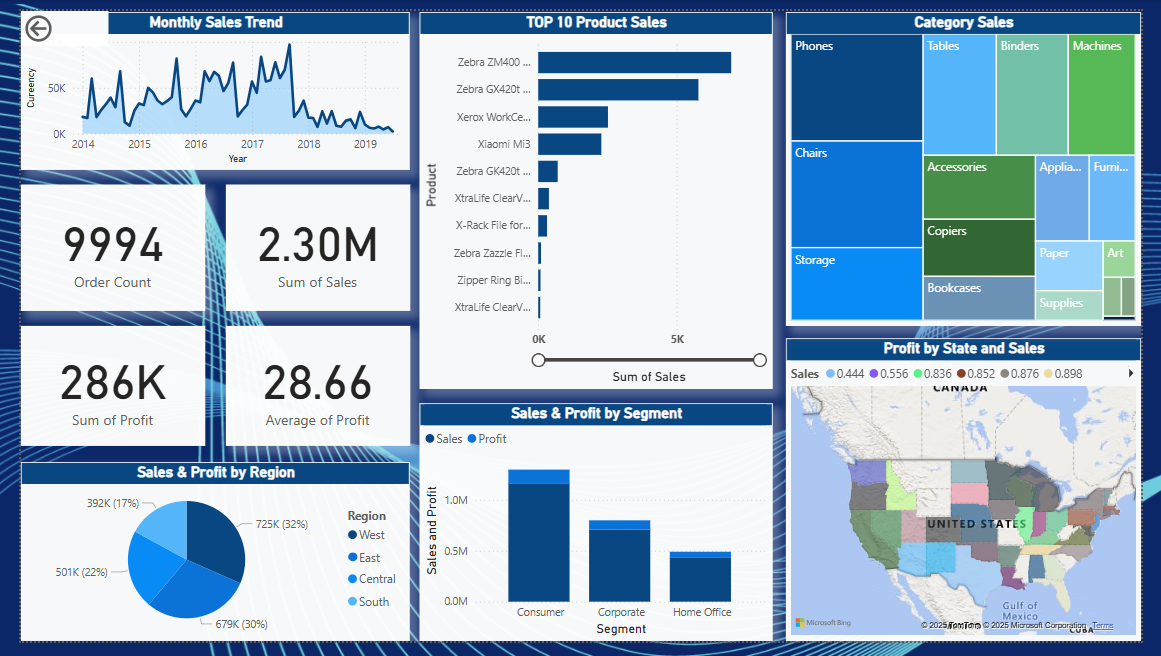

The dashboard page shown, as its layout file describes it:
{"tool":"powerbi","page":{"name":"Page 1","canvas":[1280,720],"ordinal":0},"visuals":[{"type":"lineChart","title":"Monthly Sales Trend","fields":{"Y":["Sum(Superstore.Sales)"],"Category":["Superstore.Order Month.Variation.Date Hierarchy.Year","Superstore.Order Month.Variation.Date Hierarchy.Quarter","Superstore.Order Month.Variation.Date Hierarchy.Month","Superstore.Order Month.Variation.Date Hierarchy.Day"]},"box":[0,1.4,444.3,180],"z":0},{"type":"card","fields":{"Values":["Sum(Superstore.Sales)"]},"box":[234.3,198.6,210,144.3],"z":1000},{"type":"actionButton","box":[0,0,100,40],"z":2000},{"type":"card","fields":{"Values":["Sum(Superstore.Profit)"]},"box":[0,360,210,137.1],"z":3000},{"type":"card","fields":{"Values":["Superstore.Order Count"]},"box":[0,198.6,210,144.3],"z":4000},{"type":"card","fields":{"Values":["Avg(Superstore.Profit)"]},"box":[234.3,360,210,137.1],"z":5000},{"type":"columnChart","title":"Sales & Profit by Segment","fields":{"Y":["Sum(Superstore.Sales)","Sum(Superstore.Profit)"],"Category":["Superstore.Segment"]},"box":[455.7,448.6,402.9,271.4],"z":6000},{"type":"filledMap","title":"Profit by State and Sales","fields":{"Category":["Superstore.State"],"Series":["Superstore.Sales"]},"box":[874.3,374.3,405.7,345.7],"z":7000},{"type":"pieChart","title":"Sales & Profit by Region","fields":{"Category":["Superstore.Region"],"Y":["Sum(Superstore.Sales)"]},"box":[0,516,444.5,203.3],"z":8000},{"type":"barChart","title":"TOP 10 Product Sales","fields":{"Category":["Superstore.Product Name"],"Y":["Sum(Superstore.Sales)"]},"box":[455.7,1.4,402.9,430],"z":9000},{"type":"treemap","title":"Category Sales","fields":{"Group":["Superstore.Sub-Category"],"Values":["Sum(Superstore.Sales)"]},"box":[874.3,1.4,405.7,358.6],"z":10000}]}

Visuals, with their boxes in screenshot pixels (x1, y1, x2, y2), scaled from the page's 1280x720 canvas onto the 1161x656 screenshot:
"Monthly Sales Trend" lineChart: l=0, t=1, r=403, b=165
card - Sum(Superstore.Sales): l=213, t=181, r=403, b=312
actionButton: l=0, t=0, r=91, b=36
card - Sum(Superstore.Profit): l=0, t=328, r=190, b=453
card - Superstore.Order Count: l=0, t=181, r=190, b=312
card - Avg(Superstore.Profit): l=213, t=328, r=403, b=453
"Sales & Profit by Segment" columnChart: l=413, t=409, r=779, b=655
"Profit by State and Sales" filledMap: l=793, t=341, r=1160, b=655
"Sales & Profit by Region" pieChart: l=0, t=470, r=403, b=655
"TOP 10 Product Sales" barChart: l=413, t=1, r=779, b=393
"Category Sales" treemap: l=793, t=1, r=1160, b=328
